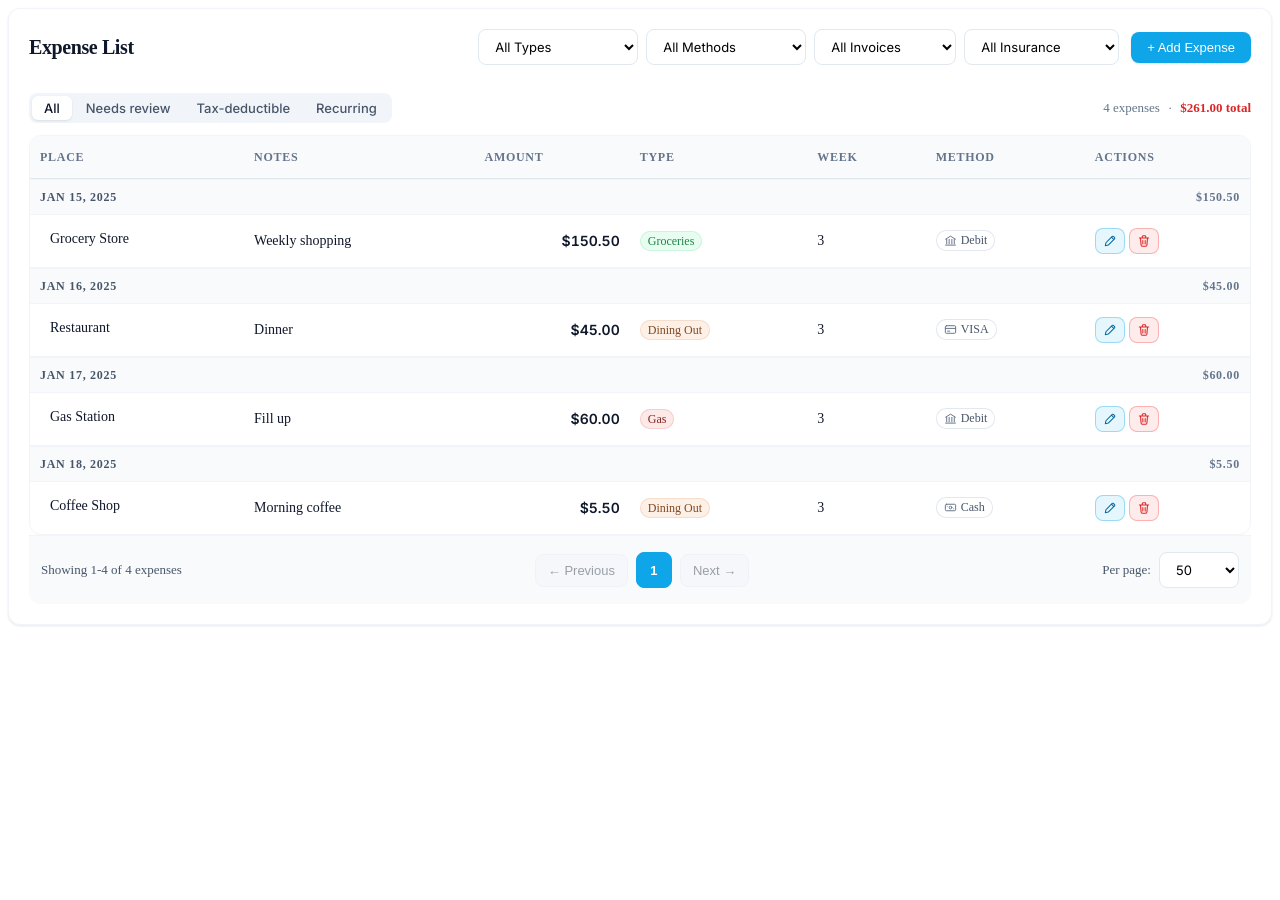
Test: ExpenseList - Local Filtering (Monthly View) › should filter expenses by payment method using local filter
This screenshot has width=1280, height=900.
Apply payment method filter for "Debit" using smart filter encoding
Select "Debit" in the 2nd dropdown with class "filter-select": (726, 47) [646, 29, 806, 65]
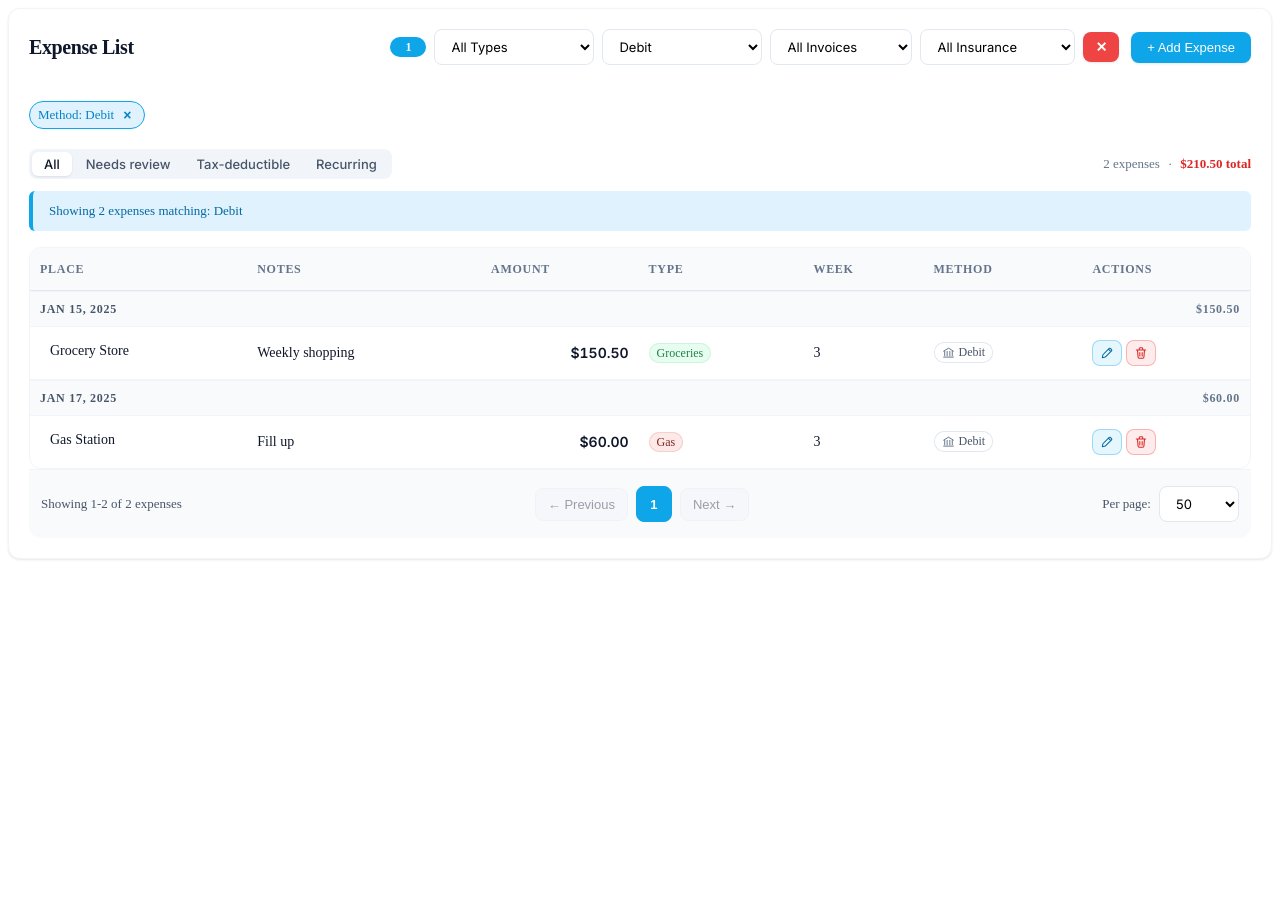
Expected: the text "Grocery Store" is shown, [50, 343, 129, 358]
Now the text "Restaurant" is gone
Now the text "Coffee Shop" is gone
